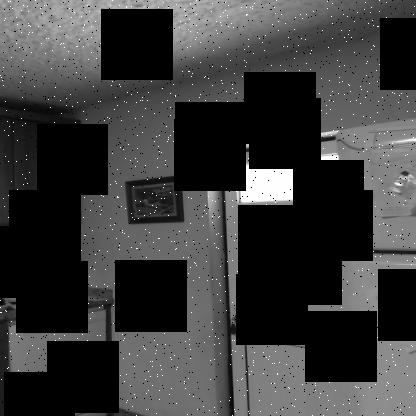Porte: (224, 134, 388, 415)
